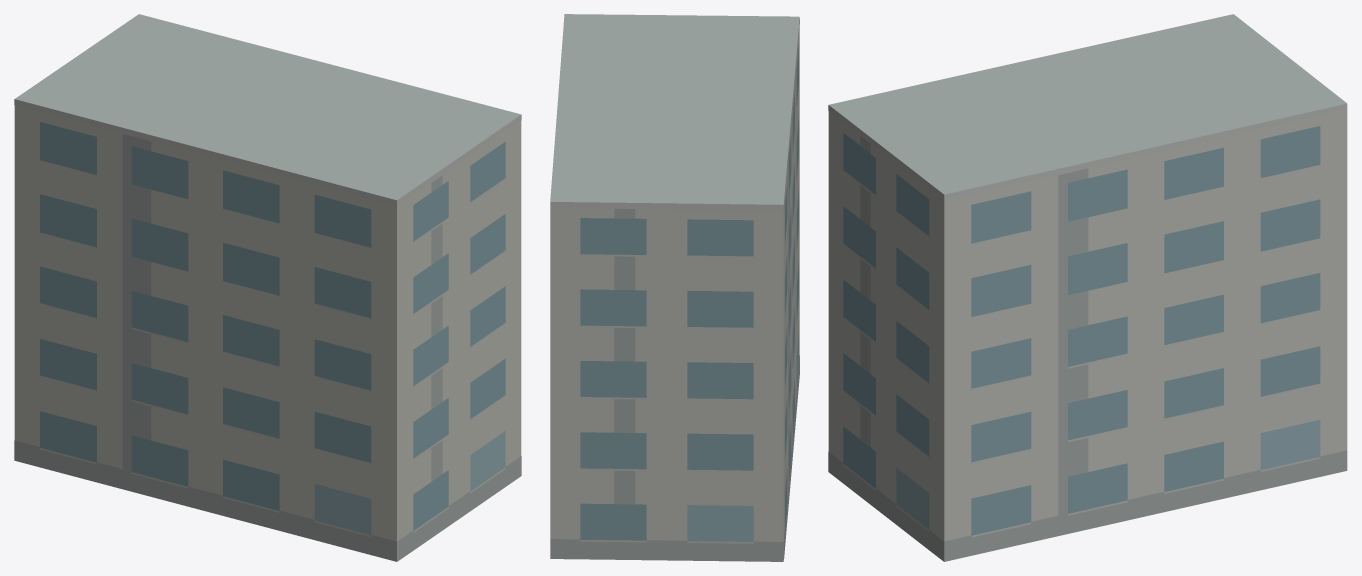
File: survey-upis-32949439.glb
3 renders of one model, left to right at view 1: azimuth 30°, elevation 25°; view 2: azimuth 150°, elevation 25°; view 3: azimuth 270°, elevation 25°, orthographic. The views are drawn at different scales.
Parts seen in each view (by area): view 1: survey-upis-32949439.tmp; view 2: survey-upis-32949439.tmp; view 3: survey-upis-32949439.tmp.
Part boxes in pixels (box(x1,y1,x2,y2)): survey-upis-32949439.tmp: box(14, 14, 521, 561); survey-upis-32949439.tmp: box(550, 14, 799, 561); survey-upis-32949439.tmp: box(828, 14, 1347, 561).
Size of the model in its own units: 14.99 by 14.2 by 18.19.
